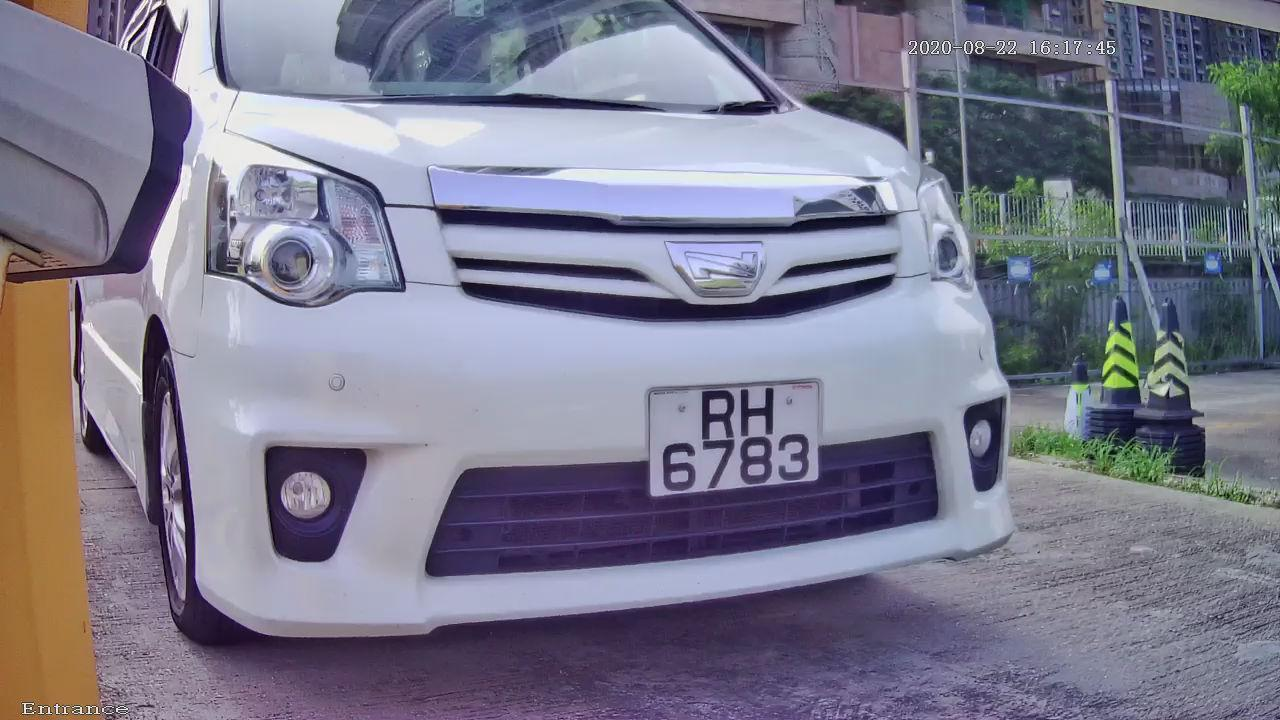Car: (52, 1, 1075, 695)
License Plate: (635, 361, 835, 515)
